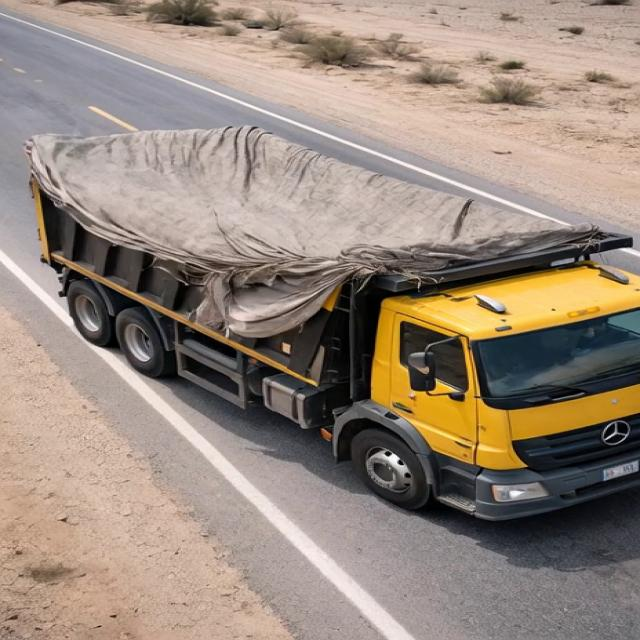trailer: (32, 127, 633, 261)
truck: (15, 106, 638, 513)
